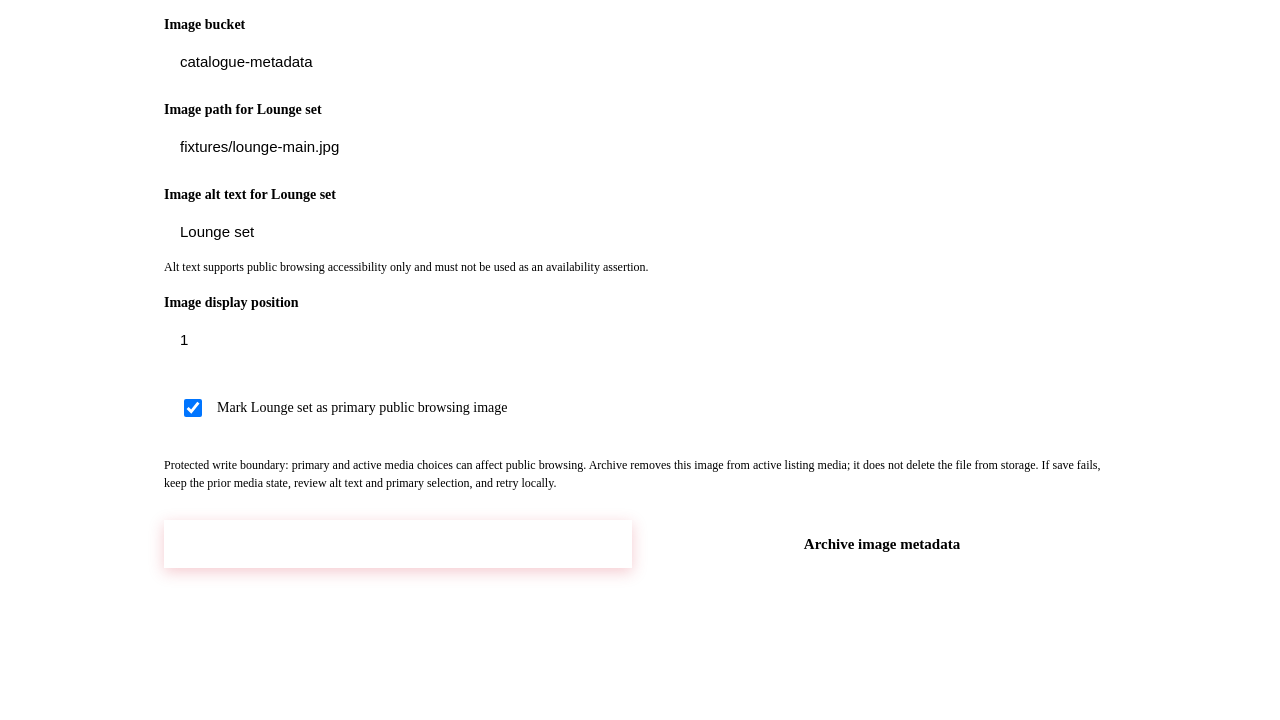
Scenario: listing image metadata management panel › renders only generic failures without raw provider, proof, or workspace details
This screenshot has width=1280, height=720.
(page scrolled)
Step 1. Click the button "Save image metadata" → coordinates (398, 544), box [164,520,632,568]
(page scrolled)
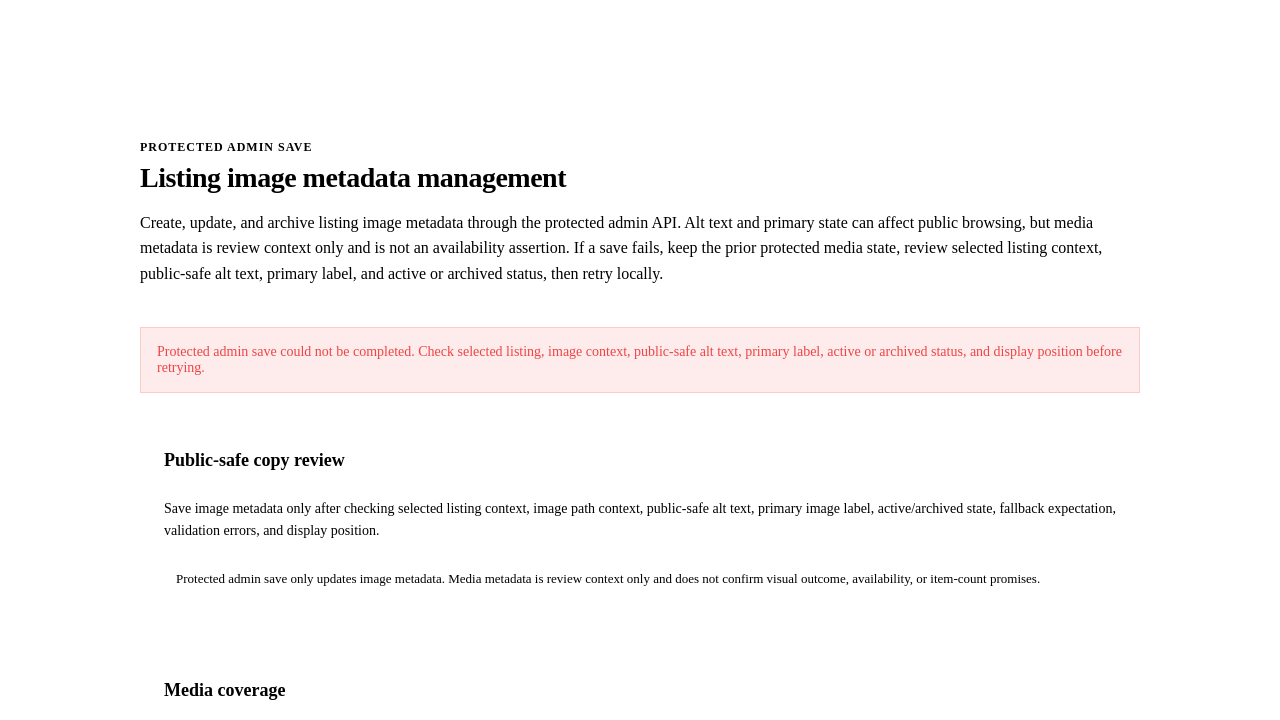
Expected: the text "Protected admin save could not be completed" is shown, [157,344,1122,375]
